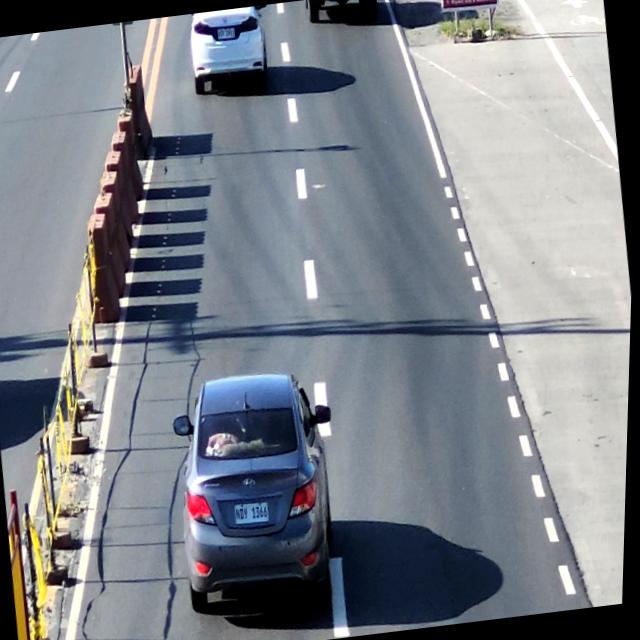Car: (168, 364, 358, 618), (180, 5, 271, 101)
License-Plate: (234, 494, 275, 530), (214, 22, 237, 40)
